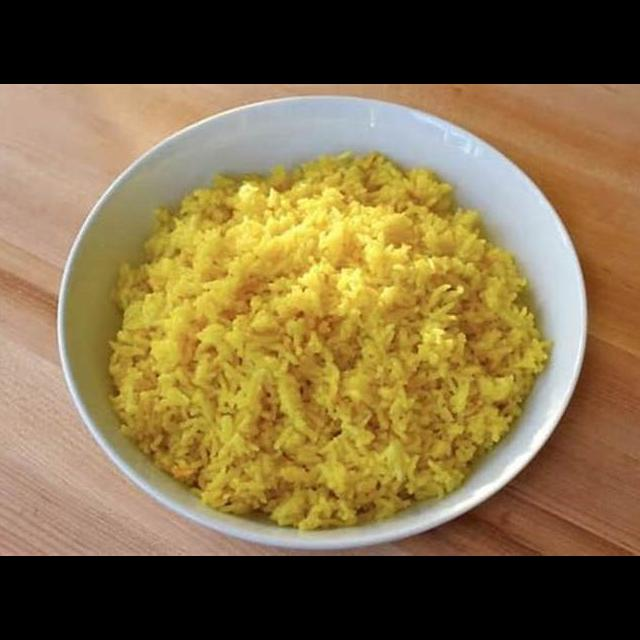food_waste: (229, 223, 465, 457)
